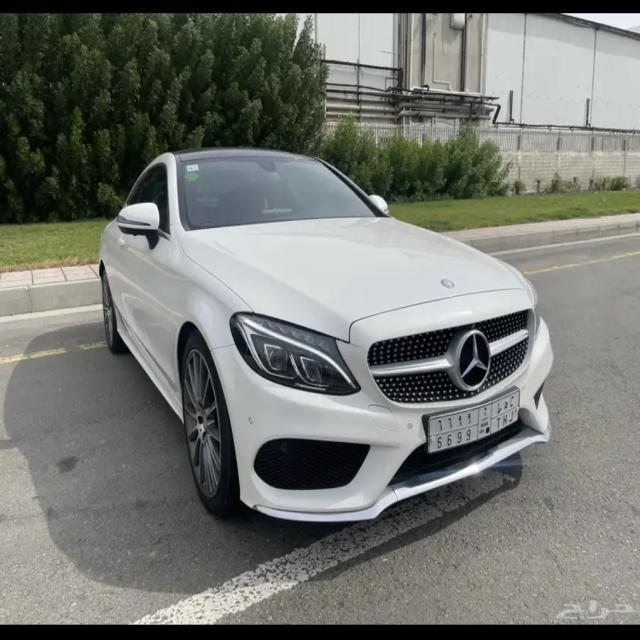license_plate: (426, 389, 522, 453)
